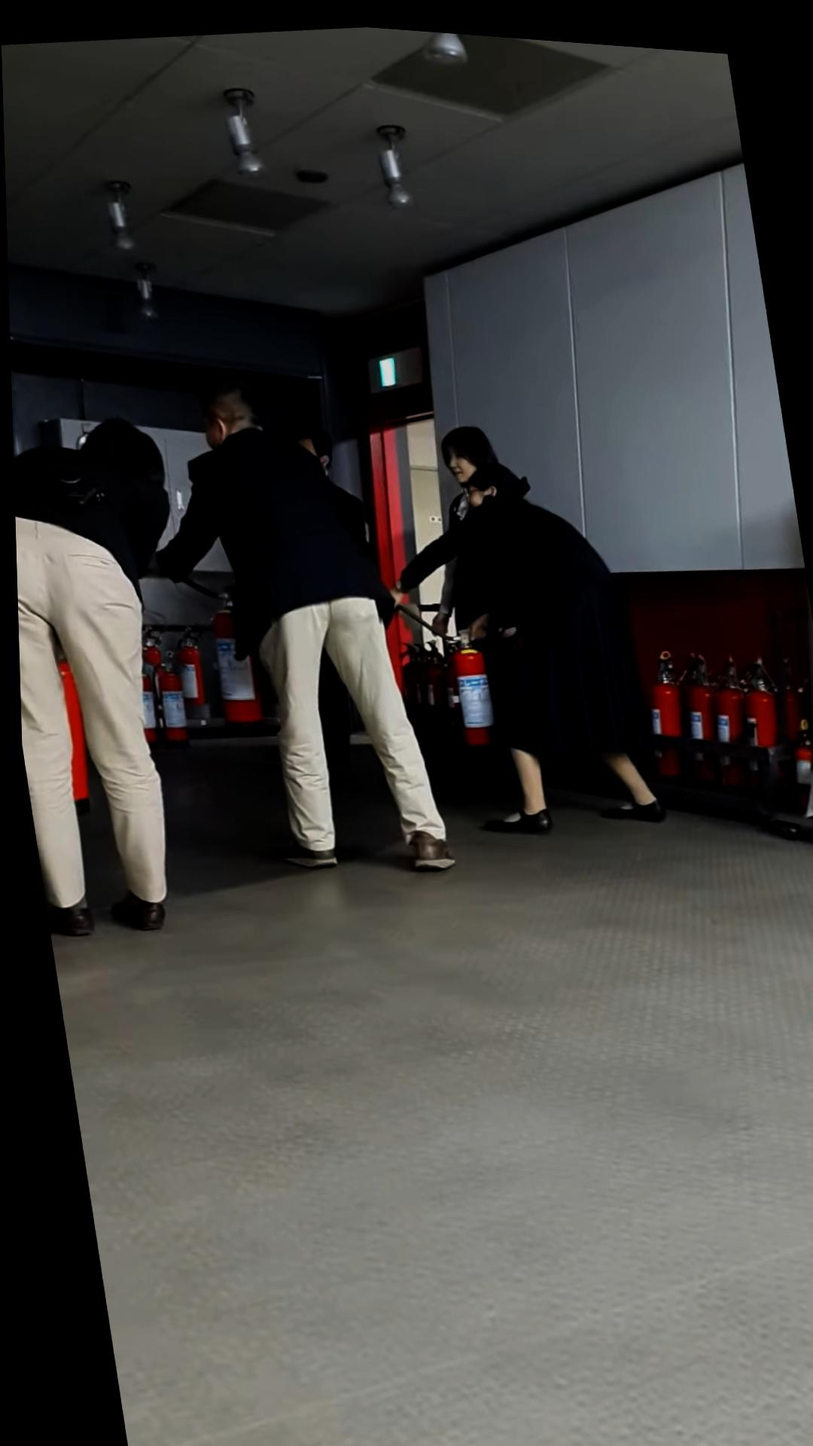FireExtinguisher: (198, 576, 284, 742), (32, 642, 103, 820), (437, 612, 505, 753), (700, 632, 758, 792), (634, 627, 690, 778), (671, 632, 722, 781), (734, 640, 781, 790), (774, 648, 813, 769), (148, 655, 192, 751), (164, 625, 209, 710), (123, 658, 161, 748), (133, 625, 163, 685)
